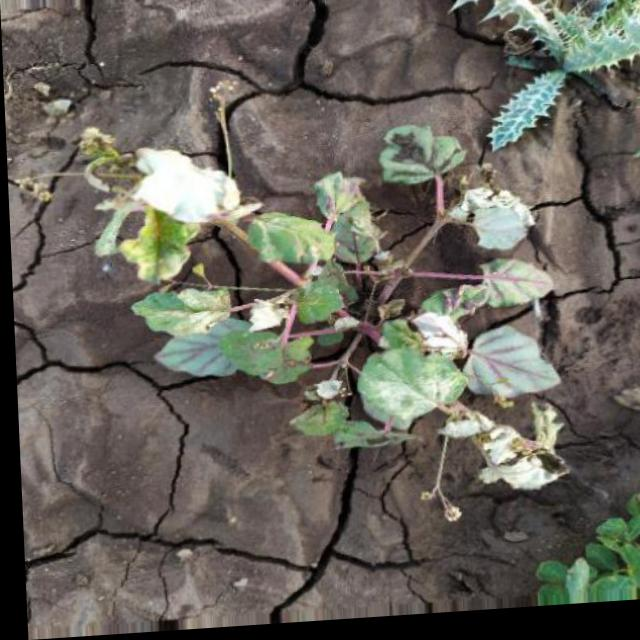weed: (54, 108, 579, 555), (413, 0, 640, 163)
